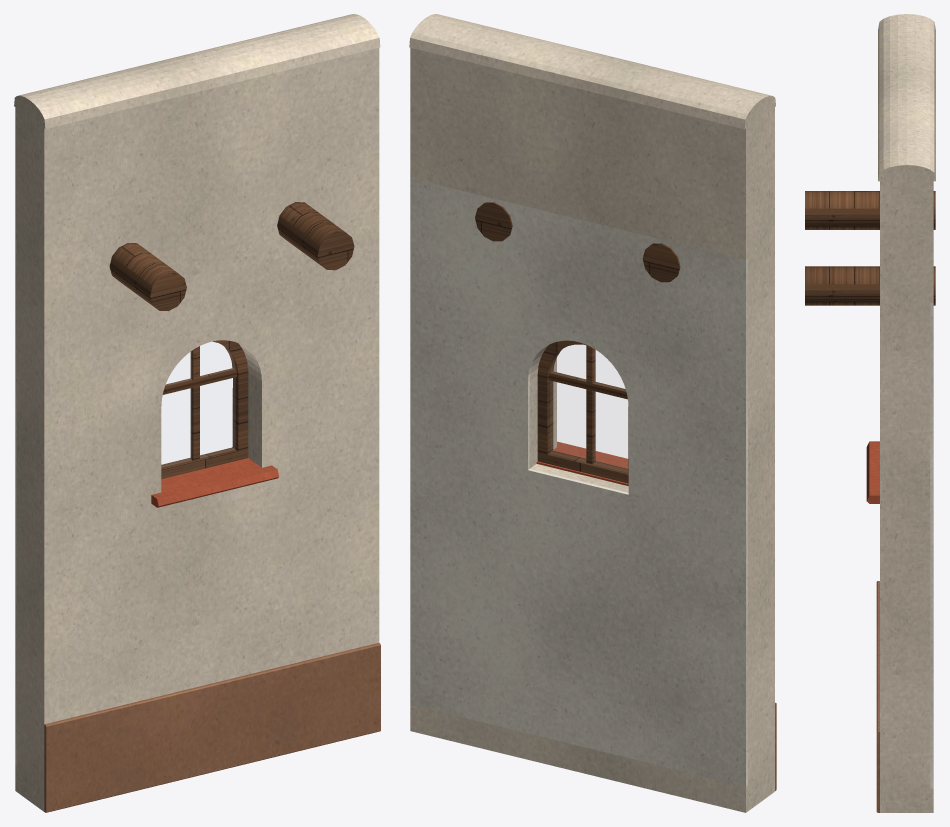
File: c_wall_small.glb
The picture shows the model from 3 angles, left to right: view 1: azimuth 30°, elevation 25°; view 2: azimuth 150°, elevation 25°; view 3: azimuth 270°, elevation 25°; orthographic projection. The views are drawn at different scales.
Visible parts, largest first — view 1: c_wall_small_render, c_wall_small_plinth, c_wall_small_wood, c_wall_small_glass, c_wall_small_tile_clay, c_wall_small_plaster; view 2: c_wall_small_plaster, c_wall_small_render, c_wall_small_wood, c_wall_small_glass, c_wall_small_tile_clay; view 3: c_wall_small_render, c_wall_small_wood, c_wall_small_plaster, c_wall_small_plinth, c_wall_small_tile_clay.
Part boxes in pixels (x1,y1,x2,y2): c_wall_small_render: (14, 14, 380, 811); c_wall_small_plinth: (44, 642, 380, 812); c_wall_small_wood: (109, 202, 354, 478); c_wall_small_glass: (162, 342, 234, 466); c_wall_small_tile_clay: (151, 458, 279, 507); c_wall_small_plaster: (15, 239, 16, 765); c_wall_small_plaster: (410, 178, 747, 786); c_wall_small_render: (409, 14, 775, 812); c_wall_small_wood: (475, 202, 680, 483); c_wall_small_glass: (551, 345, 627, 471); c_wall_small_tile_clay: (536, 441, 628, 485); c_wall_small_render: (878, 14, 935, 812); c_wall_small_wood: (805, 191, 935, 305); c_wall_small_plaster: (930, 302, 933, 788); c_wall_small_plinth: (876, 581, 879, 812); c_wall_small_tile_clay: (866, 441, 879, 503).
Bounding box in the file's own units: 2 × 4 × 0.732.
6 materials, 5 textured.
